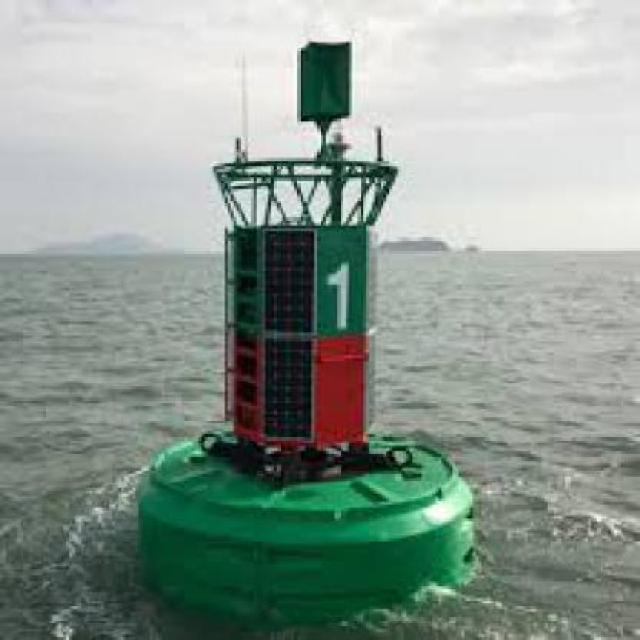buoy: (113, 13, 495, 636)
